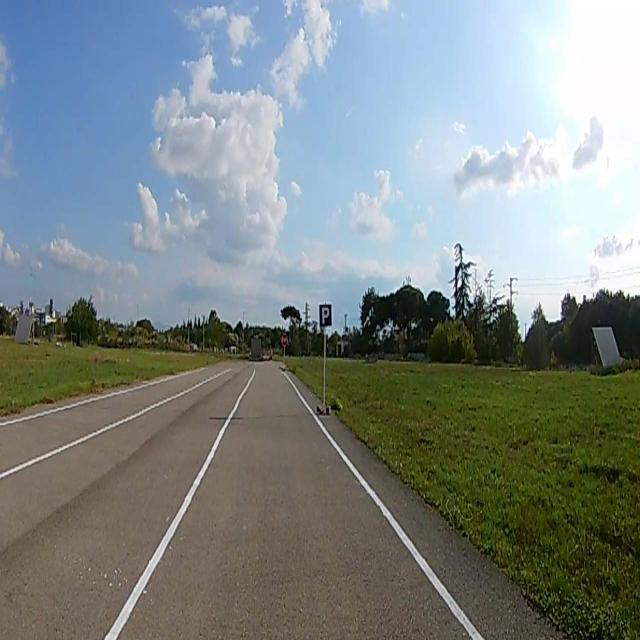park: (318, 305, 332, 326)
